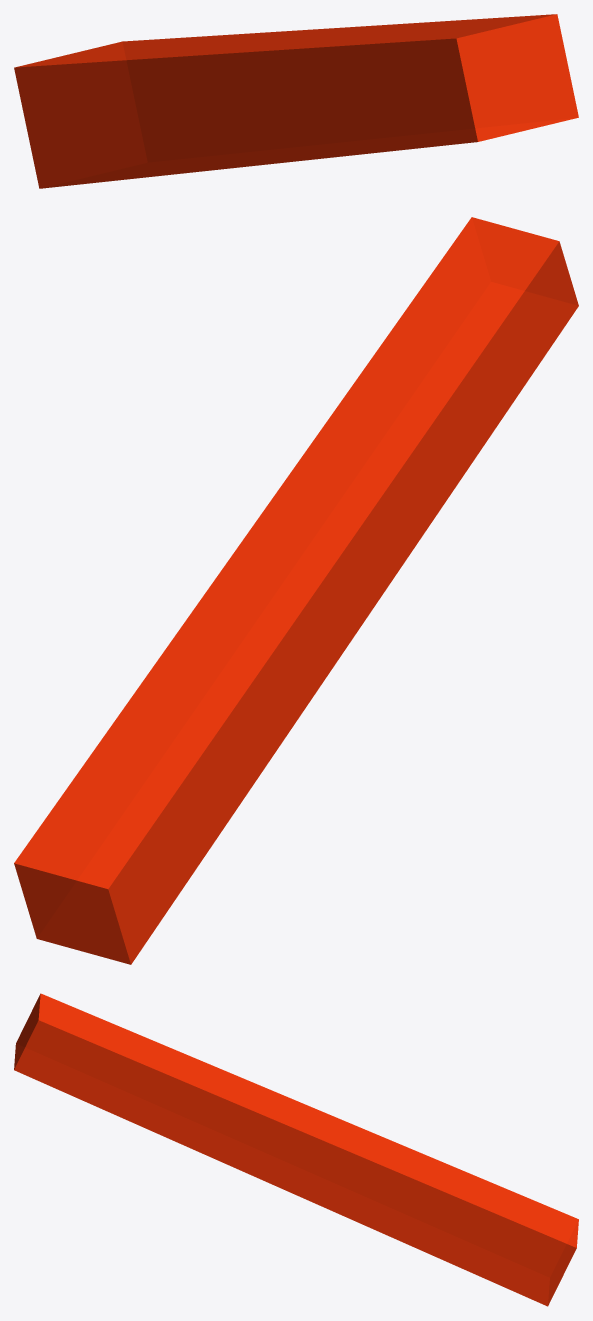
File: Event_420107950_EBrechit_9.fbx
The picture shows the model from 3 angles, top to bottom: view 1: azimuth 30°, elevation 25°; view 2: azimuth 150°, elevation 25°; view 3: azimuth 270°, elevation 25°; orthographic projection. The views are drawn at different scales.
Visible parts, largest first — view 1: Model; view 2: Model; view 3: Model.
Part boxes in pixels (box(x1,y1,x2,y2)): Model: box(14, 14, 578, 188); Model: box(14, 217, 578, 964); Model: box(14, 993, 578, 1306).
Bounding box in the file's own units: 0.082 × 0.2797 × 0.5168.
